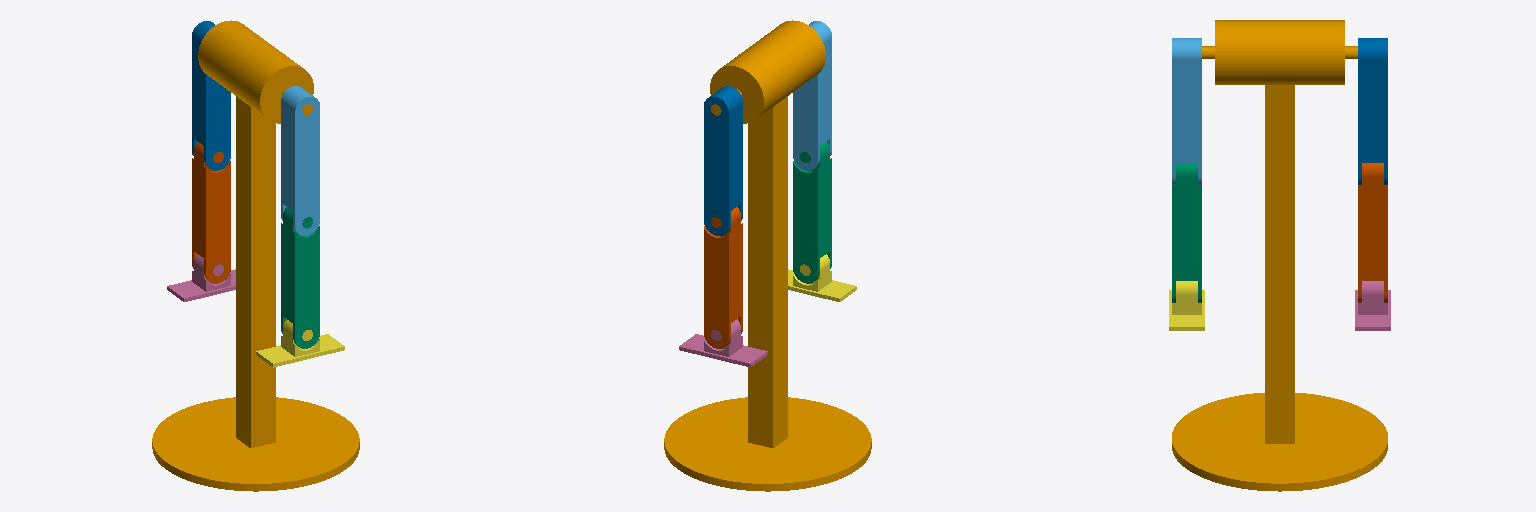
URDF robot description (rb):
<?xml version = "1.0"?>

<robot name = "rb" >
    <link name = "base_link">
        <visual>
            <geometry>
                <mesh filename = "package://bipedo_d/meshes/base.stl" scale = "1 1 1"/>
            </geometry>
            <origin rpy = "0 0 0" xyz = "0 0 0"/>
        </visual>

        <collision>
            <geometry>
                <mesh filename = "package://bipedo_d/meshes/base.stl" scale = "1 1 1"/>
            </geometry>
            <origin rpy = "0 0 0" xyz = "0 0 0"/>
        </collision>

        <inertial>
            <mass value = "4.936835" />
            <inertia ixx = "2.452350" ixy = "0" ixz = "0" iyy = "2.438750" iyz = "0" izz = "0.064078"/>
            <origin rpy = "0 0 0" xyz = "0 0 0.549293" />
        </inertial>
    </link>

    <joint name = "base_link_link_01" type = "revolute" >
        <parent link = "base_link" />
        <child link = "link_01" />
        <origin ryp = "0 0 0" xyz = "0 -0.215 1" />
        <axis xyz = "0 1 0" />
        <limit effort = "10" lower = "-3.14" upper = "3.14" velocity = "0.5" />
    </joint>

    <transmission name = "trans_base_link_link_01">
        <type>transmission_interface/SimpleTransmission</type>
        <joint name = "base_link_link_01">
            <hardwareInterface>hardware_interface/EffortJointInterface</hardwareInterface>
        </joint>
        <actuator name = "motor_base_link_link_01">
            <hardwareInterface>hardware_interface/EffortJointInterface</hardwareInterface>
            <mechanicalReduction>1</mechanicalReduction>
        </actuator>
    </transmission>

    <link name = "link_01">
        <visual>
            <geometry>
                <mesh filename = "package://bipedo_d/meshes/link_01.stl" scale = "1 1 1"/>
            </geometry>
            <origin rpy = "0 0 0" xyz = "0 0 0"/>
        </visual>

        <collision>
            <geometry>
                <mesh filename = "package://bipedo_d/meshes/link_01.stl" scale = "1 1 1"/>
            </geometry>
            <origin rpy = "0 0 0" xyz = "0 0 0"/>
        </collision>

        <inertial>
            <mass value = "0.521" />
            <inertia ixx = "0.013" ixy = "0" ixz = "0" iyy = "0.013" iyz = "0" izz = "0"/>
            <origin rpy = "0 0 0" xyz = "0 0 -0.132" />
        </inertial>
    </link>

    <joint name = "link_01_link_02" type = "revolute" >
        <parent link = "link_01" />
        <child link = "link_02" />
        <origin ryp = "0 0 0" xyz = "0 0 -0.3" />
        <axis xyz = "0 1 0" />
        <limit effort = "10" lower = "-3.14" upper = "3.14" velocity = "0.5" />
    </joint>

    <transmission name = "trans_link_01_link_02">
        <type>transmission_interface/SimpleTransmission</type>
        <joint name = "link_01_link_02">
            <hardwareInterface>hardware_interface/EffortJointInterface</hardwareInterface>
        </joint>
        <actuator name = "motor_link_01_link_02">
            <hardwareInterface>hardware_interface/EffortJointInterface</hardwareInterface>
            <mechanicalReduction>1</mechanicalReduction>
        </actuator>
    </transmission>

    <link name = "link_02">
        <visual>
            <geometry>
                <mesh filename = "package://bipedo_d/meshes/link_02.stl" scale = "1 1 1"/>
            </geometry>
            <origin rpy = "0 0 0" xyz = "0 0 0"/>
        </visual>

        <collision>
            <geometry>
                <mesh filename = "package://bipedo_d/meshes/link_02.stl" scale = "1 1 1"/>
            </geometry>
            <origin rpy = "0 0 0" xyz = "0 0 0"/>
        </collision>

        <inertial>
            <mass value = "0.513" />
            <inertia ixx = "0.013" ixy = "0" ixz = "0" iyy = "0.013" iyz = "0" izz = "0"/>
            <origin rpy = "0 0 0" xyz = "0 0 -0.133" />
        </inertial>
    </link>

    <joint name = "link_02_link_03" type = "revolute" >
        <parent link = "link_02" />
        <child link = "link_03" />
        <origin ryp = "0 0 0" xyz = "0 0 -0.3" />
        <axis xyz = "0 1 0" />
        <limit effort = "10" lower = "-3.14" upper = "3.14" velocity = "0.5" />
    </joint>

    <transmission name = "trans_link_02_link_03">
        <type>transmission_interface/SimpleTransmission</type>
        <joint name = "link_02_link_03">
            <hardwareInterface>hardware_interface/EffortJointInterface</hardwareInterface>
        </joint>
        <actuator name = "motor_link_02_link_03">
            <hardwareInterface>hardware_interface/EffortJointInterface</hardwareInterface>
            <mechanicalReduction>1</mechanicalReduction>
        </actuator>
    </transmission>

    <link name = "link_03">
        <visual>
            <geometry>
                <mesh filename = "package://bipedo_d/meshes/link_03.stl" scale = "1 1 1"/>
            </geometry>
            <origin rpy = "0 0 0" xyz = "0 0 0"/>
        </visual>

        <collision>
            <geometry>
                <mesh filename = "package://bipedo_d/meshes/link_03.stl" scale = "1 1 1"/>
            </geometry>
            <origin rpy = "0 0 0" xyz = "0 0 0"/>
        </collision>

        <inertial>
            <mass value = "0.169" />
            <inertia ixx = "0"  ixy = "0" ixz = "0" iyy = "0" iyz = "0" izz = "0"/>
            <origin rpy = "0 0 0" xyz = "0 0 -0.027" />
        </inertial>
    </link>

    <joint name = "base_link_link_04" type = "revolute" >
        <parent link = "base_link" />
        <child link = "link_04" />
        <origin ryp = "0 0 0" xyz = "0 0.215 1" />
        <axis xyz = "0 1 0" />
        <limit effort = "10" lower = "-3.14" upper = "3.14" velocity = "0.5" />
    </joint>

    <transmission name = "trans_base_link_link_04">
        <type>transmission_interface/SimpleTransmission</type>
        <joint name = "base_link_link_04">
            <hardwareInterface>hardware_interface/EffortJointInterface</hardwareInterface>
        </joint>
        <actuator name = "motor_base_link_link_04">
            <hardwareInterface>hardware_interface/EffortJointInterface</hardwareInterface>
            <mechanicalReduction>1</mechanicalReduction>
        </actuator>
    </transmission>

    <link name = "link_04">
        <visual>
            <geometry>
                <mesh filename = "package://bipedo_d/meshes/link_01.stl" scale = "1 1 1"/>
            </geometry>
            <origin rpy = "0 0 0" xyz = "0 0 0"/>
        </visual>

        <collision>
            <geometry>
                <mesh filename = "package://bipedo_d/meshes/link_01.stl" scale = "1 1 1"/>
            </geometry>
            <origin rpy = "0 0 0" xyz = "0 0 0"/>
        </collision>

        <inertial>
            <mass value = "0.521" />
            <inertia ixx = "0.013" ixy = "0" ixz = "0" iyy = "0.013" iyz = "0" izz = "0"/>
            <origin rpy = "0 0 0" xyz = "0 0 -0.132" />
        </inertial>
    </link>

    <joint name = "link_04_link_05" type = "revolute" >
        <parent link = "link_04" />
        <child link = "link_05" />
        <origin ryp = "0 0 0" xyz = "0 0 -0.3" />
        <axis xyz = "0 1 0" />
        <limit effort = "10" lower = "-3.14" upper = "3.14" velocity = "0.5" />
    </joint>

    <transmission name = "trans_link_04_link_05">
        <type>transmission_interface/SimpleTransmission</type>
        <joint name = "link_04_link_05">
            <hardwareInterface>hardware_interface/EffortJointInterface</hardwareInterface>
        </joint>
        <actuator name = "motor_link_04_link_05">
            <hardwareInterface>hardware_interface/EffortJointInterface</hardwareInterface>
            <mechanicalReduction>1</mechanicalReduction>
        </actuator>
    </transmission>

    <link name = "link_05">
        <visual>
            <geometry>
                <mesh filename = "package://bipedo_d/meshes/link_02.stl" scale = "1 1 1"/>
            </geometry>
            <origin rpy = "0 0 0" xyz = "0 0 0"/>
        </visual>

        <collision>
            <geometry>
                <mesh filename = "package://bipedo_d/meshes/link_02.stl" scale = "1 1 1"/>
            </geometry>
            <origin rpy = "0 0 0" xyz = "0 0 0"/>
        </collision>

        <inertial>
            <mass value = "0.513" />
            <inertia ixx = "0.013" ixy = "0" ixz = "0" iyy = "0.013" iyz = "0" izz = "0"/>
            <origin rpy = "0 0 0" xyz = "0 0 -0.133" />
        </inertial>
    </link>

   <joint name = "link_05_link_06" type = "revolute" >
        <parent link = "link_05" />
        <child link = "link_06" />
        <origin ryp = "0 0 0" xyz = "0 0 -0.3" />
        <axis xyz = "0 1 0" />
        <limit effort = "10" lower = "-3.14" upper = "3.14" velocity = "0.5" />
    </joint>

    <transmission name = "trans_link_05_link_06">
        <type>transmission_interface/SimpleTransmission</type>
        <joint name = "link_05_link_06">
            <hardwareInterface>hardware_interface/EffortJointInterface</hardwareInterface>
        </joint>
        <actuator name = "motor_link_05_link_06">
            <hardwareInterface>hardware_interface/EffortJointInterface</hardwareInterface>
            <mechanicalReduction>1</mechanicalReduction>
        </actuator>
    </transmission>

    <link name = "link_06">
        <visual>
            <geometry>
                <mesh filename = "package://bipedo_d/meshes/link_03.stl" scale = "1 1 1"/>
            </geometry>
            <origin rpy = "0 0 0" xyz = "0 0 0"/>
        </visual>

        <collision>
            <geometry>
                <mesh filename = "package://bipedo_d/meshes/link_03.stl" scale = "1 1 1"/>
            </geometry>
            <origin rpy = "0 0 0" xyz = "0 0 0"/>
        </collision>

        <inertial>
            <mass value = "0.169" />
            <inertia ixx = "0"  ixy = "0" ixz = "0" iyy = "0" iyz = "0" izz = "0"/>
            <origin rpy = "0 0 0" xyz = "0 0 -0.027" />
        </inertial>
    </link>

    <gazebo>
        <plugin name = "gazebo_ros_control" filename = "libgazebo_ros_control.so">
        </plugin>
    </gazebo>
</robot>

--- Render facts (derived) ---
The picture shows the robot from 3 angles, left to right: view 1: azimuth 30°, elevation 25°; view 2: azimuth 150°, elevation 25°; view 3: azimuth 270°, elevation 25°; orthographic projection.
Robot: rb — 7 links, 6 joints (6 revolute); root link base_link; default pose: all joints at 0.
Links seen in each view (by area): view 1: base_link, link_01, link_02, link_05, link_04, link_03, link_06; view 2: base_link, link_04, link_05, link_02, link_01, link_06, link_03; view 3: base_link, link_01, link_04, link_02, link_05, link_03, link_06.
Boxes of the visible links, left/top/right/bottom form: base_link: left=152, top=20, right=359, bottom=491; link_01: left=281, top=86, right=319, bottom=235; link_02: left=281, top=207, right=319, bottom=348; link_05: left=192, top=141, right=230, bottom=283; link_04: left=192, top=21, right=230, bottom=170; link_03: left=256, top=319, right=344, bottom=367; link_06: left=167, top=254, right=235, bottom=301; base_link: left=664, top=20, right=871, bottom=491; link_04: left=704, top=86, right=742, bottom=235; link_05: left=704, top=207, right=742, bottom=348; link_02: left=793, top=141, right=831, bottom=283; link_01: left=793, top=21, right=831, bottom=170; link_06: left=679, top=319, right=767, bottom=367; link_03: left=788, top=254, right=856, bottom=301; base_link: left=1172, top=20, right=1387, bottom=491; link_01: left=1172, top=38, right=1201, bottom=184; link_04: left=1358, top=38, right=1387, bottom=184; link_02: left=1172, top=163, right=1201, bottom=302; link_05: left=1358, top=163, right=1387, bottom=302; link_03: left=1169, top=281, right=1204, bottom=330; link_06: left=1355, top=281, right=1390, bottom=330.
Bounding box of the posed robot: 0.4999 × 0.5132 × 1.07 m (x, y, z).
Meshes: 4 distinct files referenced, 7 mesh visuals loaded (4 binary STL).